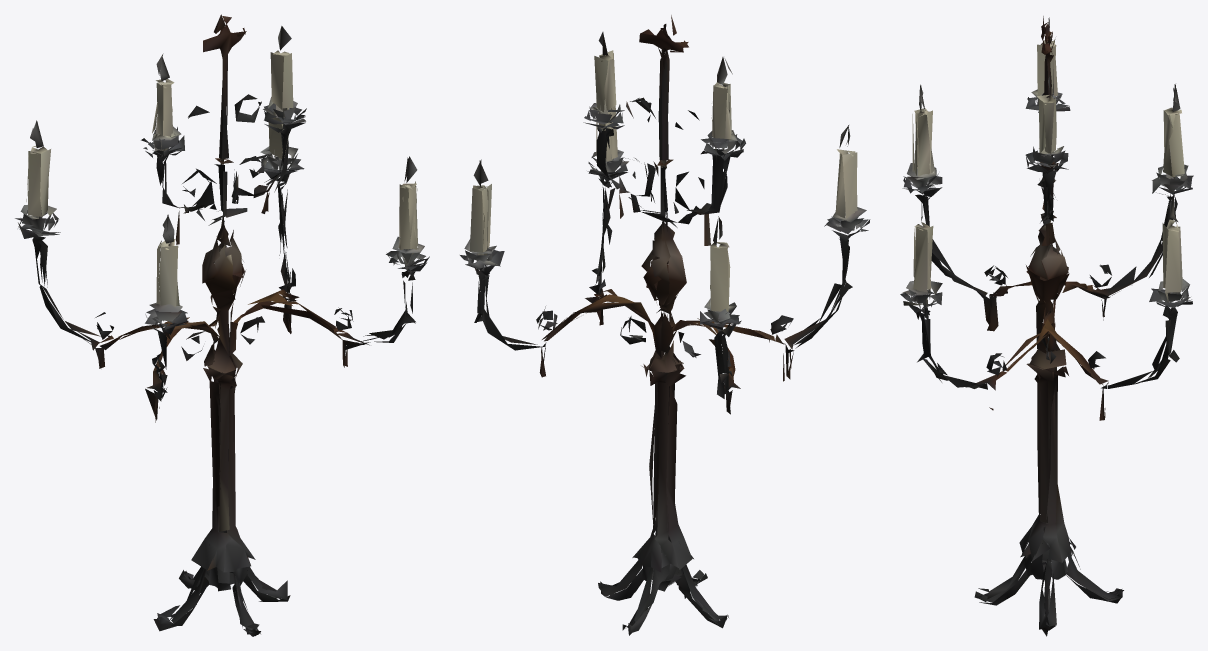
File: tree_4.glb
3 views of the same model, side by side, from view 1: azimuth 30°, elevation 25°; view 2: azimuth 150°, elevation 25°; view 3: azimuth 270°, elevation 25° (orthographic). The views are drawn at different scales.
Visible parts, largest first — view 1: geometry_0; view 2: geometry_0; view 3: geometry_0.
Part boxes in pixels (box(x1,y1,x2,y2)): geometry_0: box(15, 14, 429, 636); geometry_0: box(460, 15, 870, 635); geometry_0: box(900, 16, 1193, 636).
Bounding box in the file's own units: 27.9 × 56.44 × 25.4.
